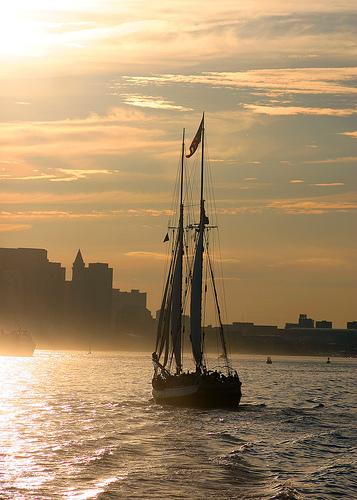Ship: (149, 114, 243, 414)
